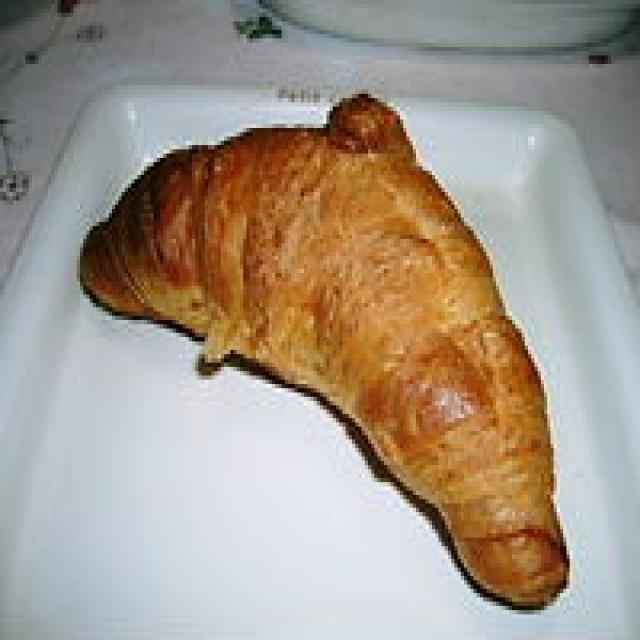面包点心: (67, 77, 586, 623)
